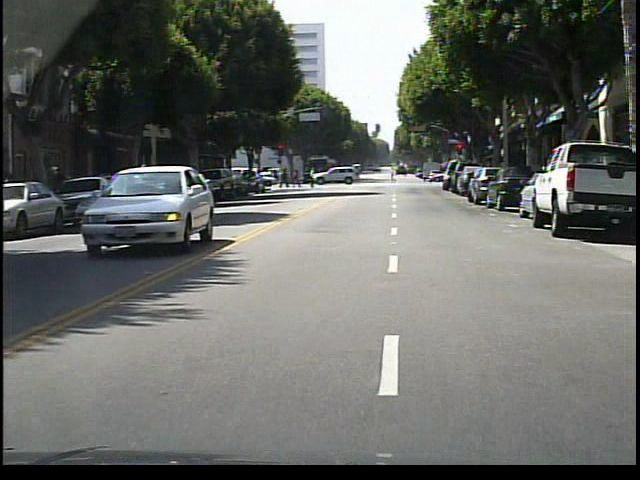person: (305, 164, 325, 193)
